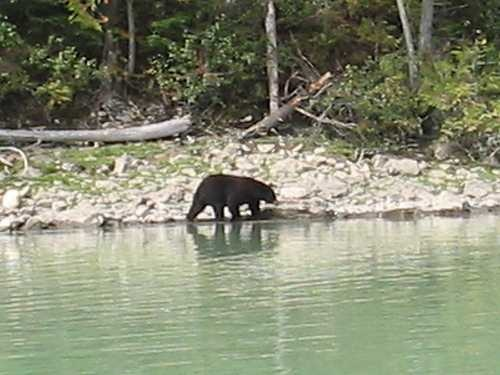bear: (173, 142, 301, 270)
